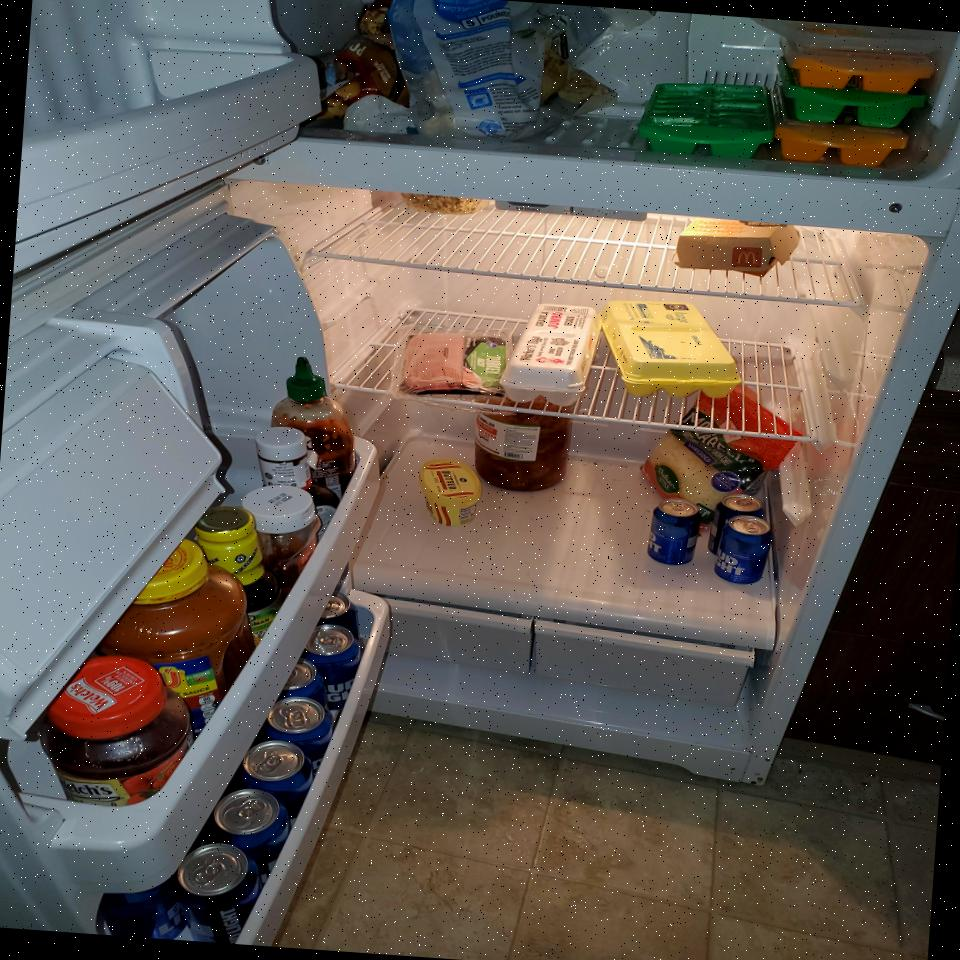Huevos: (596, 296, 746, 404), (498, 300, 604, 408)
Mantequilla: (416, 456, 484, 529)
ketchup: (236, 483, 324, 594)
